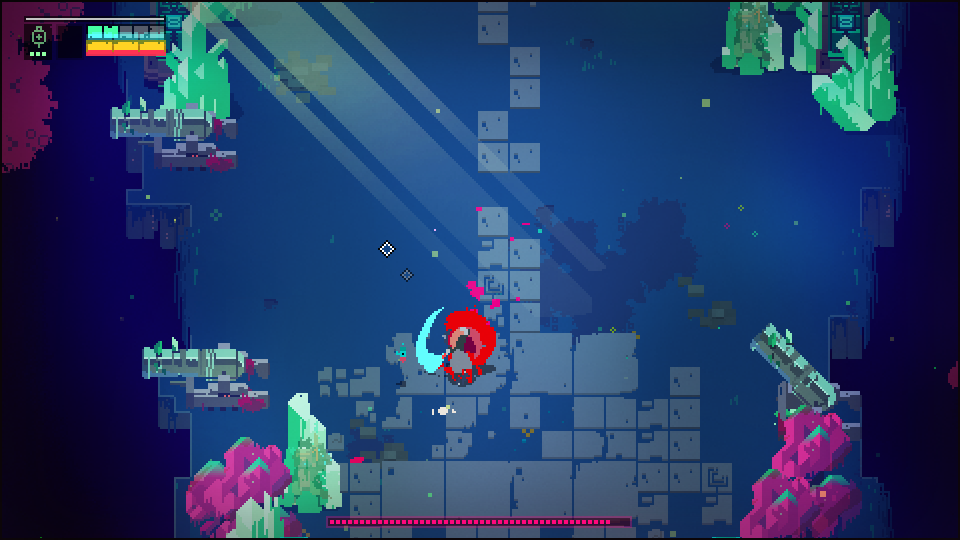player: (410, 312, 477, 379)
